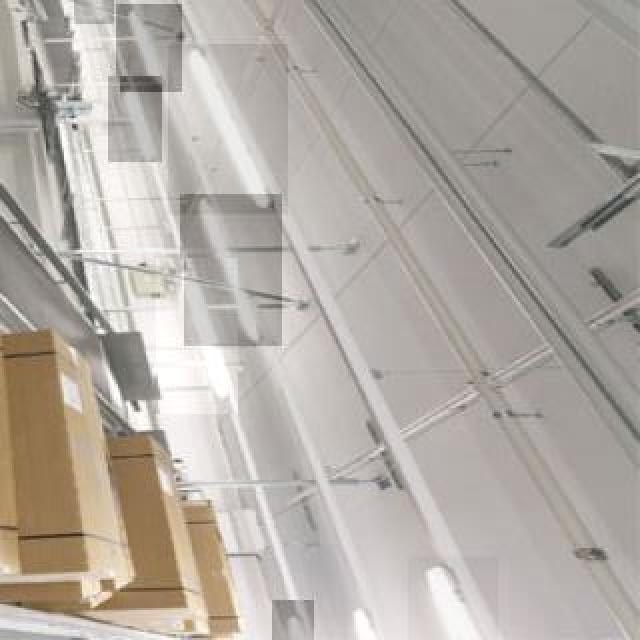fluorescent tube: (188, 55, 268, 209), (191, 182, 258, 342), (406, 563, 490, 640), (125, 7, 163, 91), (76, 0, 106, 26)
